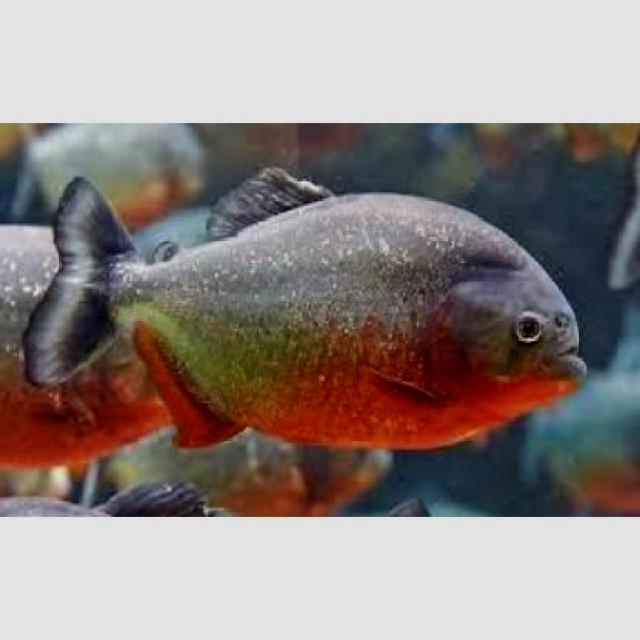ikan-pacu: (70, 178, 584, 450)
